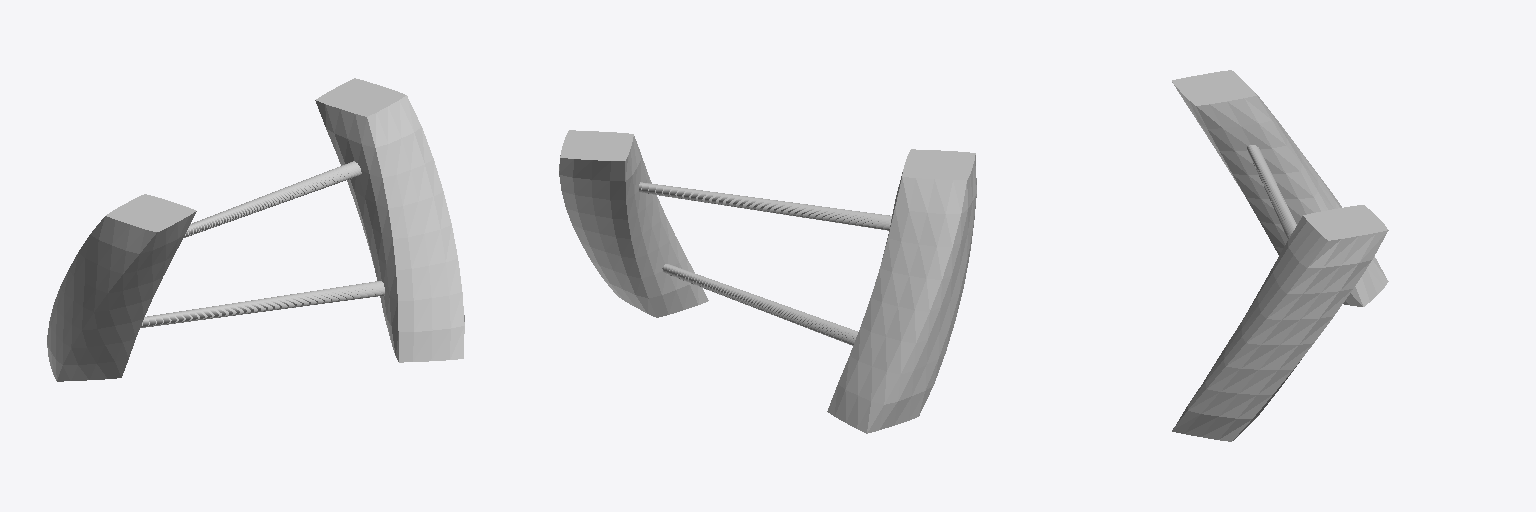
Rendered from DNA V3.obj.
The picture shows the model from 3 angles: view 1: azimuth 30°, elevation 25°; view 2: azimuth 150°, elevation 25°; view 3: azimuth 270°, elevation 25°; orthographic projection.
Parts seen in each view (by area): view 1: Cube; view 2: Cube; view 3: Cube.
Part boxes in pixels (bbox=[...]): Cube: bbox=[47, 78, 464, 381]; Cube: bbox=[559, 130, 976, 433]; Cube: bbox=[1172, 70, 1388, 441].
Size of the model in its own units: 11.03 by 5.8 by 5.68.